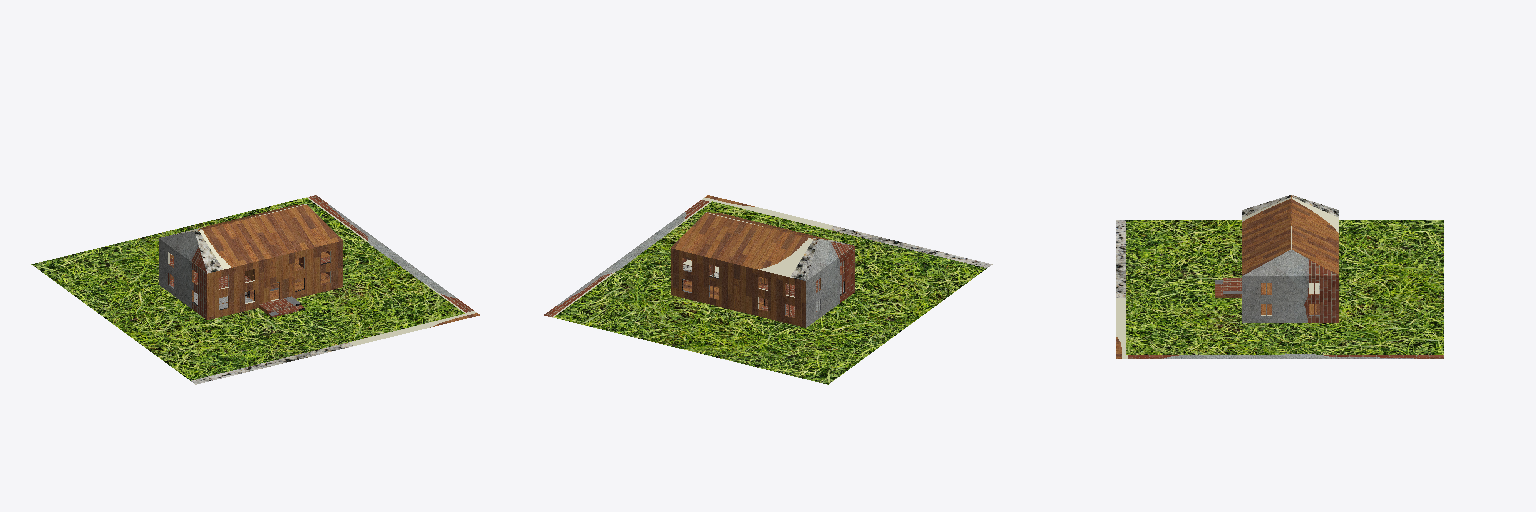
The picture shows the model from 3 angles: view 1: azimuth 30°, elevation 25°; view 2: azimuth 150°, elevation 25°; view 3: azimuth 270°, elevation 25°; orthographic projection.
Parts seen in each view (by area): view 1: Cube; view 2: Cube; view 3: Cube.
Part boxes in pixels (bbox=[...]): Cube: bbox=[31, 195, 479, 384]; Cube: bbox=[544, 195, 992, 384]; Cube: bbox=[1116, 195, 1443, 358].
Bounding box in the file's own units: 86.19 × 19.58 × 86.19.
Materials: 1 (1 with a texture image).